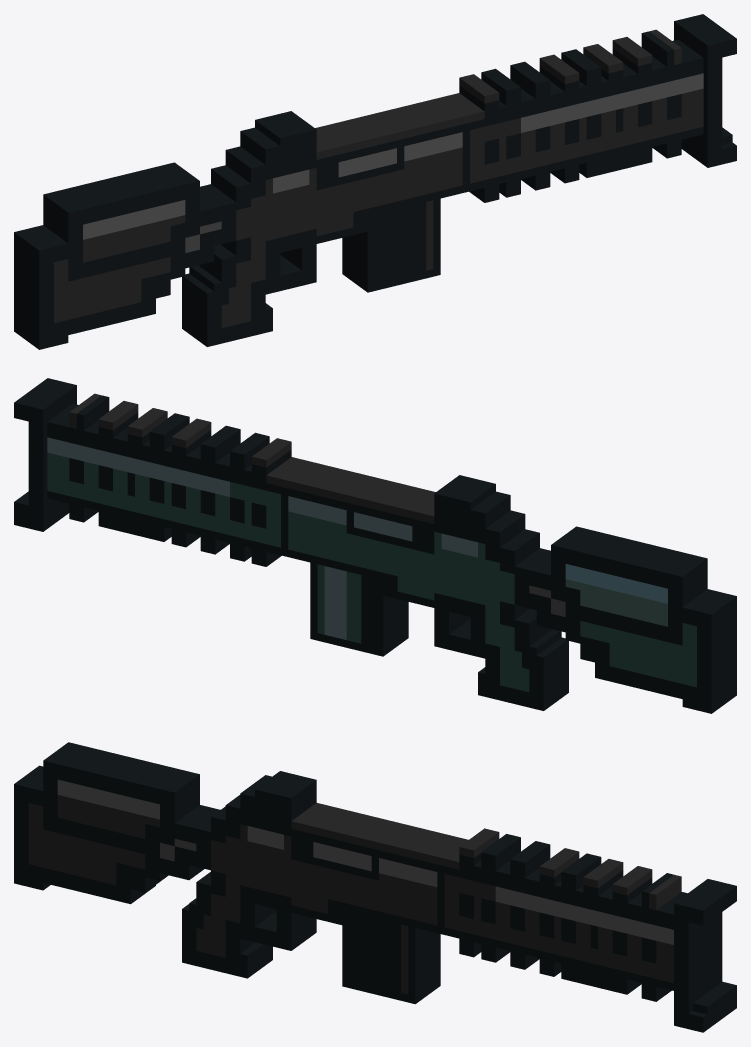
Rendered from Gun5.obj.
The picture shows the model from 3 angles, top to bottom: view 1: azimuth 30°, elevation 25°; view 2: azimuth 150°, elevation 25°; view 3: azimuth 330°, elevation 25°; orthographic projection.
Parts seen in each view (by area): view 1: Gun5; view 2: Gun5; view 3: Gun5.
Part boxes in pixels (x1=…): Gun5: x1=14, y1=14, x2=736, y2=349; Gun5: x1=14, y1=378, x2=736, y2=713; Gun5: x1=14, y1=742, x2=736, y2=1032.
Bounding box in the file's own units: 95 × 25 × 8.
1 material, 1 textured.
